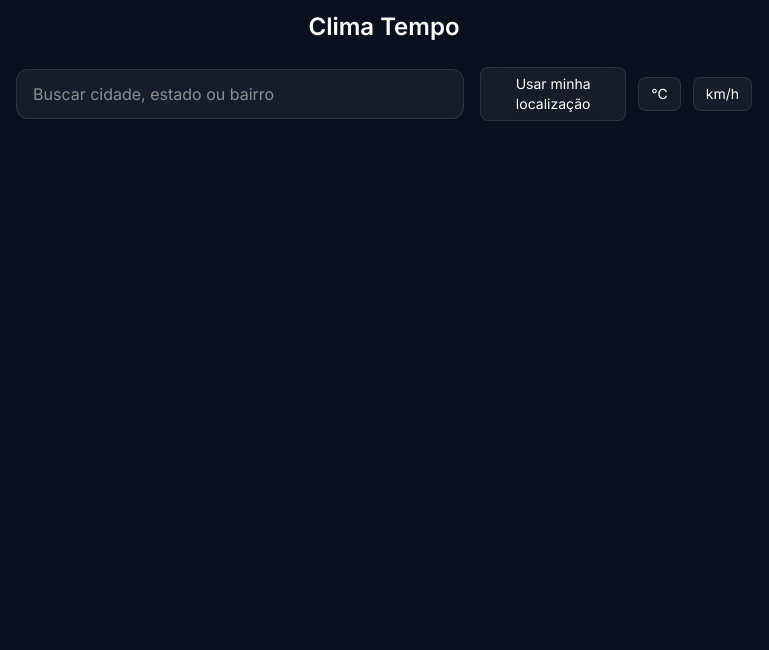
Test case: App › updates the displayed temperature when units are toggled after data is loaded
The image size is (769, 650).
Type "São Paulo" into the dropdown at (240, 94), box [16,69,464,119]
Wait 300 ms
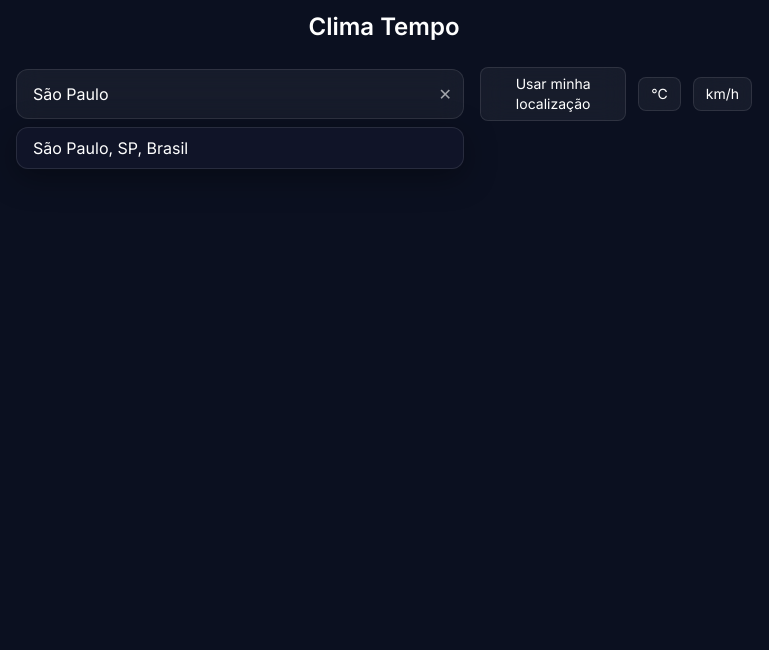
Expected: the option "São Paulo, SP, Brasil" is shown
Click the option "São Paulo, SP, Brasil" at (111, 148), box [33,138,188,158]
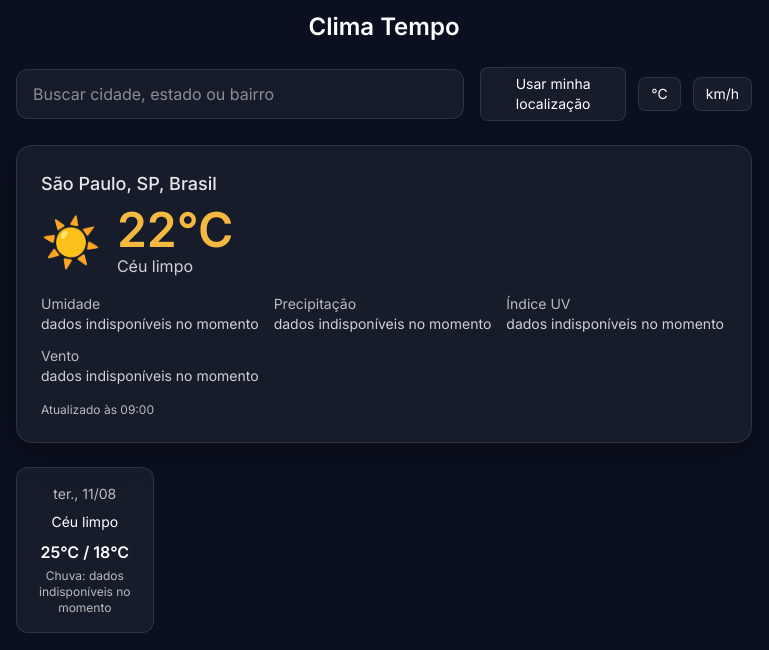
Expected: the text "22°C" is shown, [117,206,233,254]
Click the button named "Alternar temperatura para Fahrenheit" at (660, 94), box [638,77,681,111]
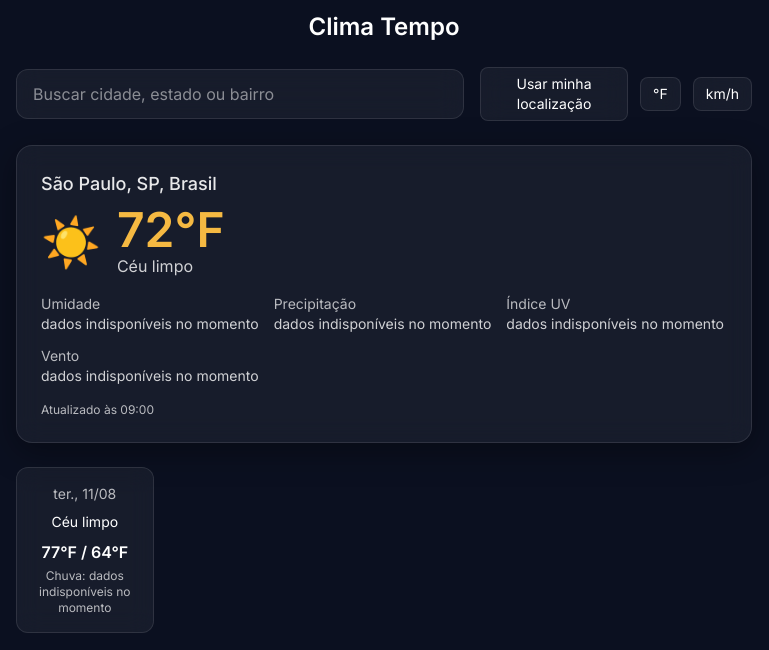
Expected: the text "72°F" is shown, [117,206,225,254]
